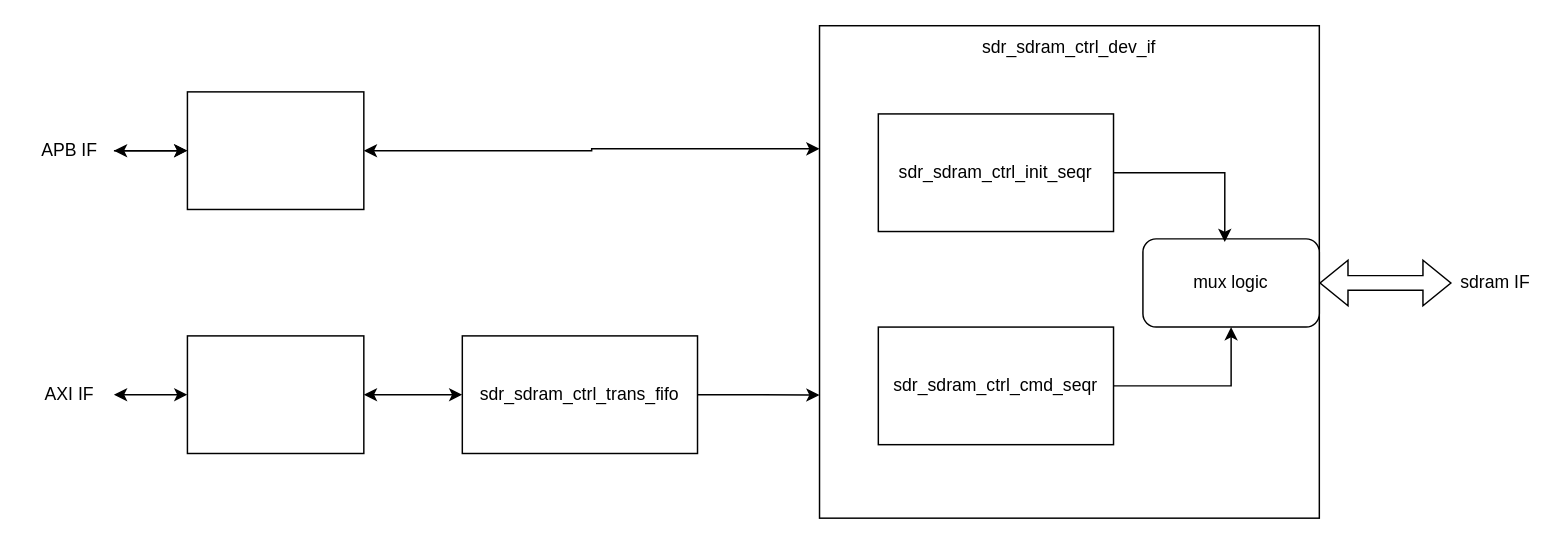
Image size: 1564x544. Some labels were removed from this diagram. Here are the shapes that lost their labels. From the top down, the box of each, then its label:
(186, 90, 364, 209): sdr_sdram_ctrl_reg
(186, 334, 364, 453): sdr_sdram_ctrl_axi_if
